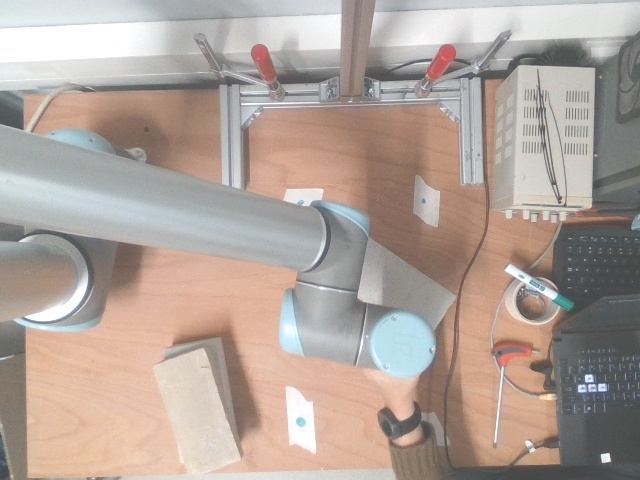brick: (155, 349, 239, 477)
